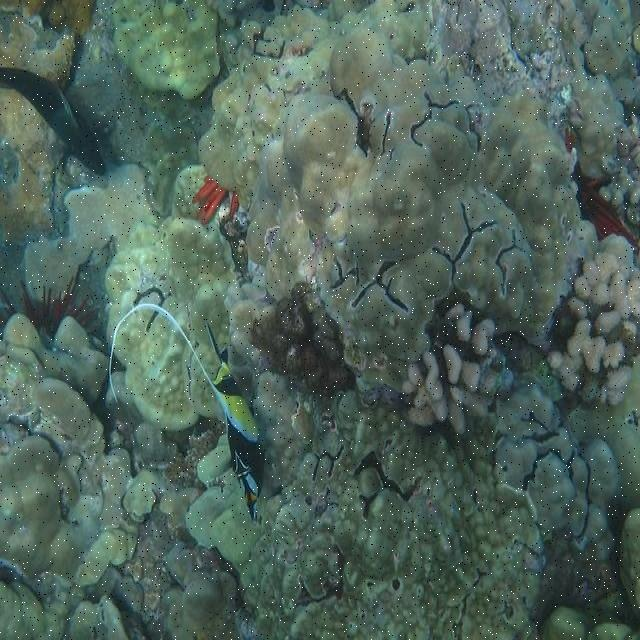fish: (109, 302, 265, 524), (0, 68, 105, 175)
reefs: (111, 0, 639, 639), (0, 315, 199, 639), (164, 544, 243, 639)
